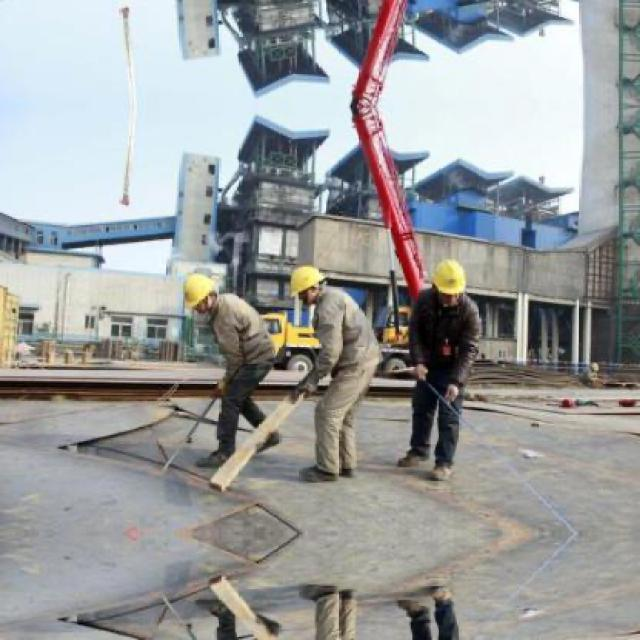con casco: (411, 240, 468, 311), (165, 261, 224, 323), (276, 274, 324, 326)
